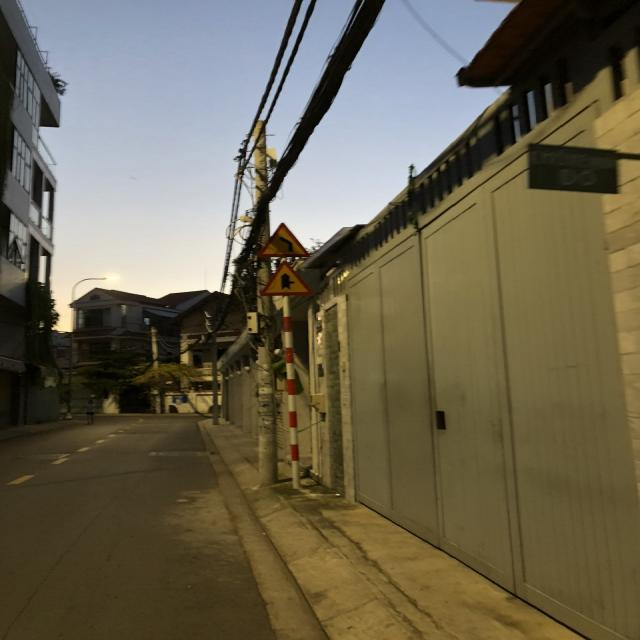Bien bao cho ngoat nguy hiem: (255, 220, 314, 261)
Bien bao giao nhau voi duong khong uu tien: (256, 262, 312, 300)
